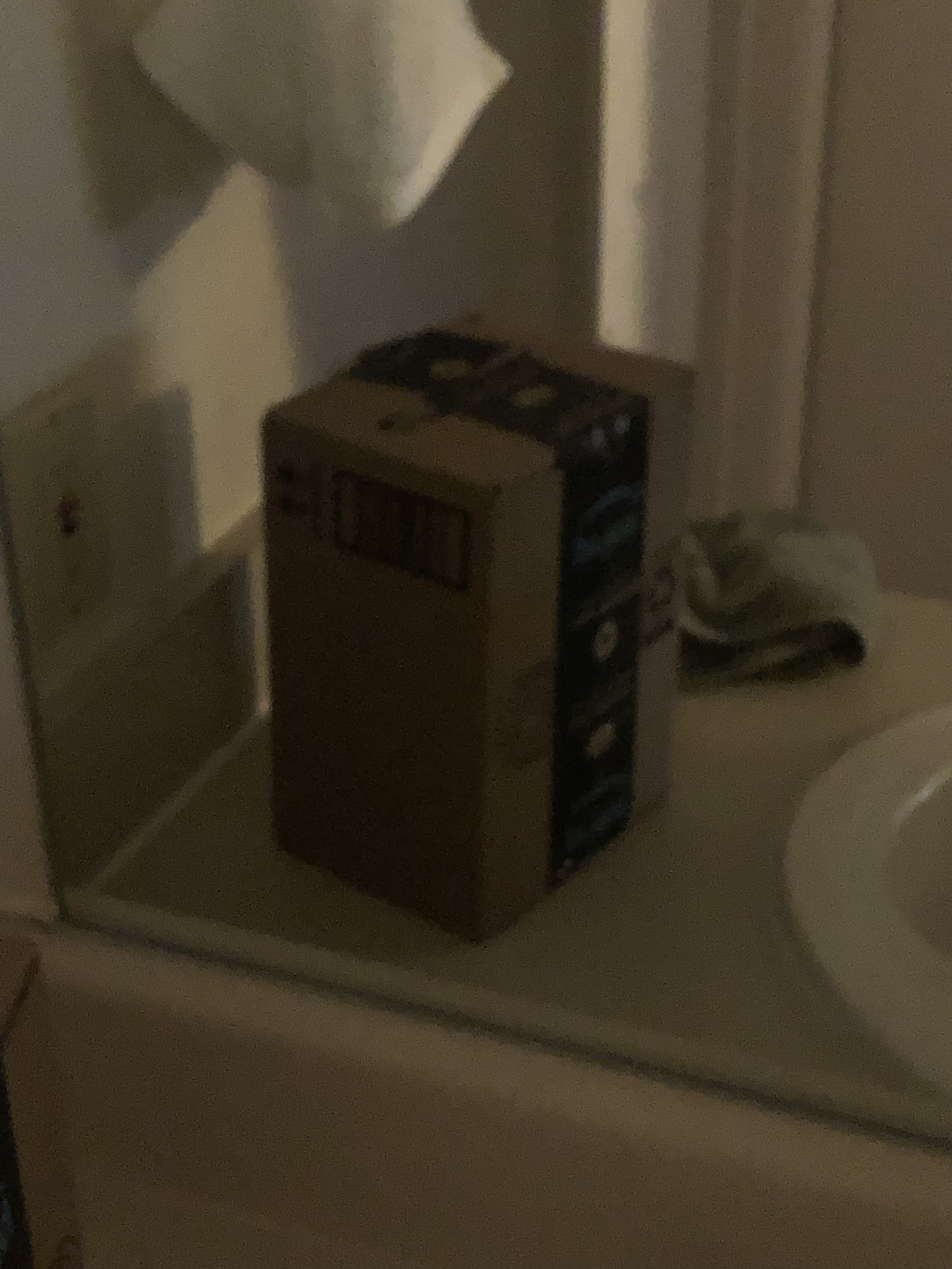package: (258, 320, 684, 947)
